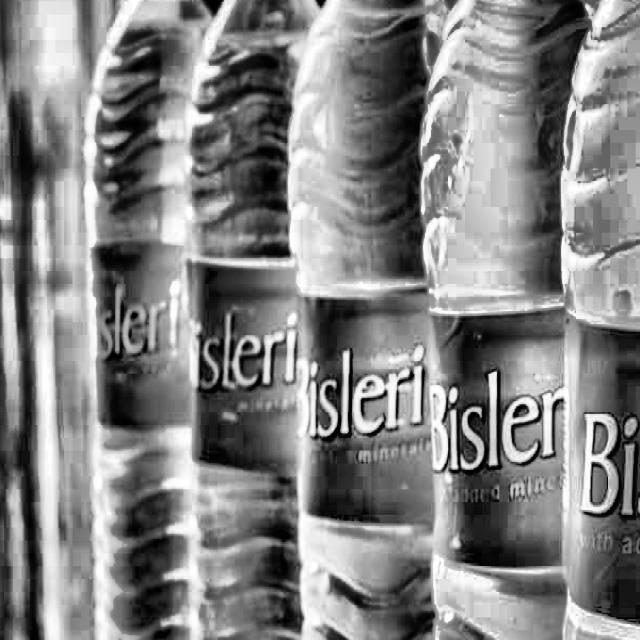bottle: (414, 0, 579, 640), (286, 0, 436, 640), (76, 0, 196, 640), (187, 0, 289, 640)
